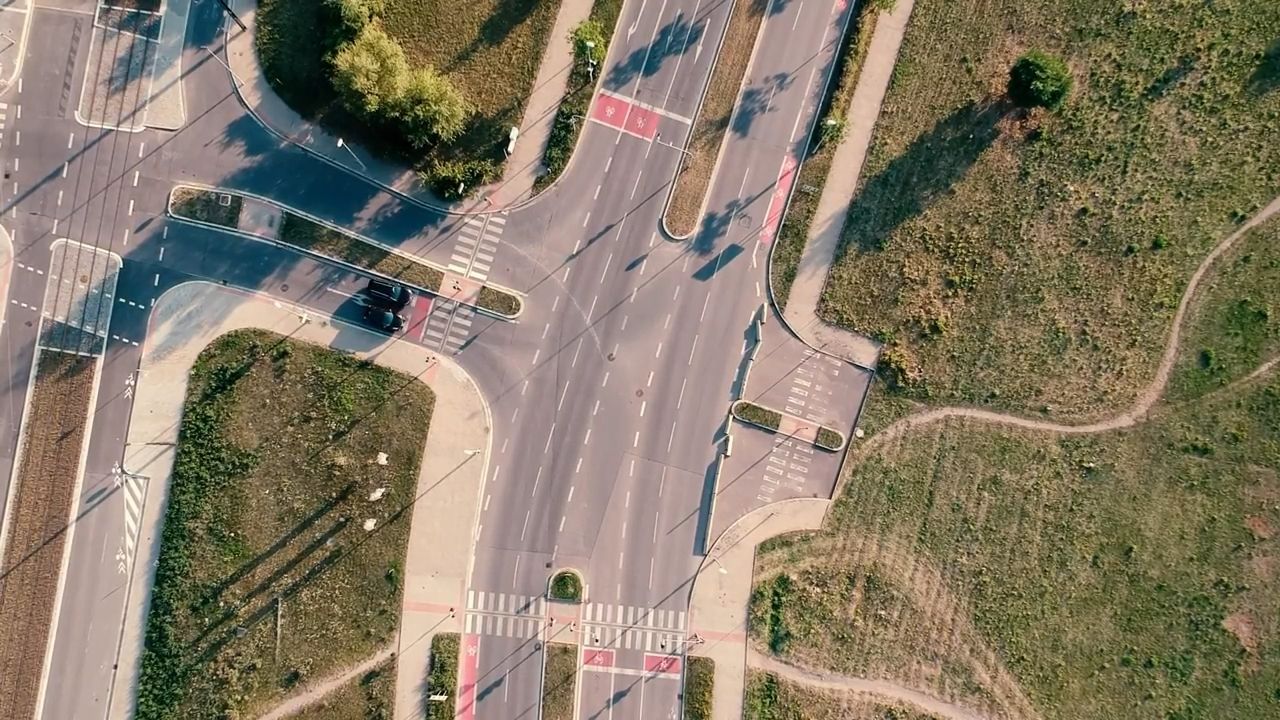car: (369, 274, 415, 307), (367, 304, 403, 333)
